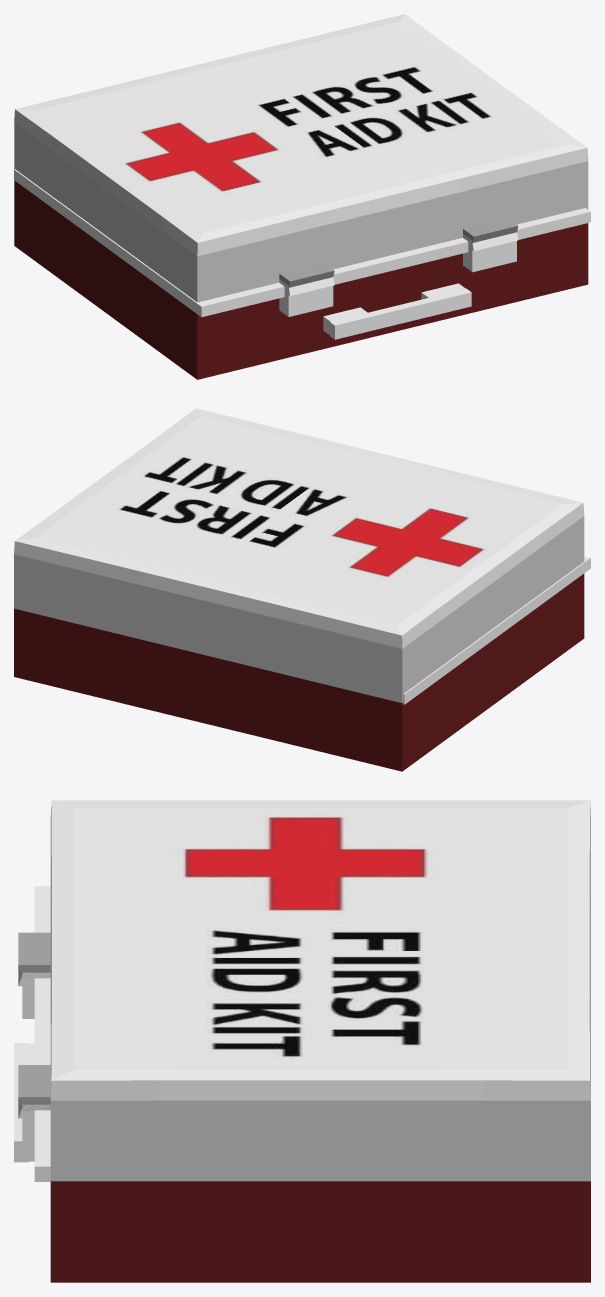
Rendered from firstaidkit.fbx.
The picture shows the model from 3 angles, top to bottom: view 1: azimuth 30°, elevation 25°; view 2: azimuth 150°, elevation 25°; view 3: azimuth 270°, elevation 25°; orthographic projection. The views are drawn at different scales.
Visible parts, largest first — view 1: Box001, Box003, Box005, Box002, Box004; view 2: Box001, Box003; view 3: Box001, Box003, Box002, Box004, Box005.
Boxes of the visible parts, x1=… form: Box001: x1=14, y1=14, x2=588, y2=379; Box003: x1=14, y1=169, x2=590, y2=317; Box005: x1=330, y1=288, x2=471, y2=339; Box002: x1=279, y1=262, x2=334, y2=316; Box004: x1=463, y1=218, x2=518, y2=272; Box001: x1=14, y1=408, x2=584, y2=771; Box003: x1=403, y1=556, x2=590, y2=704; Box001: x1=50, y1=800, x2=590, y2=1282; Box003: x1=34, y1=886, x2=50, y2=1181; Box002: x1=18, y1=932, x2=50, y2=1018; Box004: x1=18, y1=1065, x2=50, y2=1150; Box005: x1=14, y1=1043, x2=28, y2=1162.
Bounding box in the file's own units: 86.8 × 29.12 × 75.
Materials: 6 (1 with a texture image).
